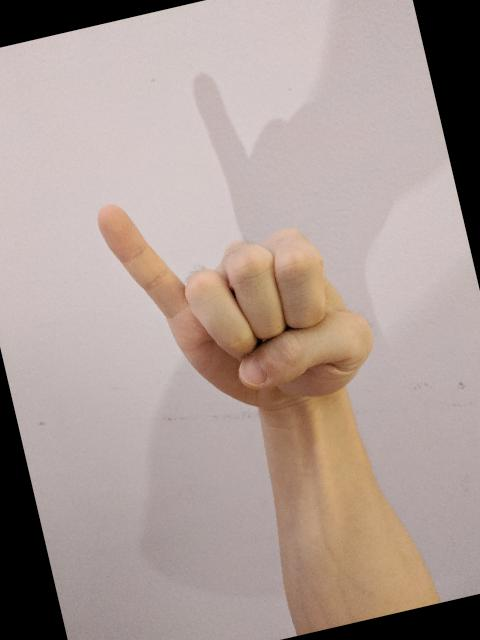I: (88, 147, 390, 440)
